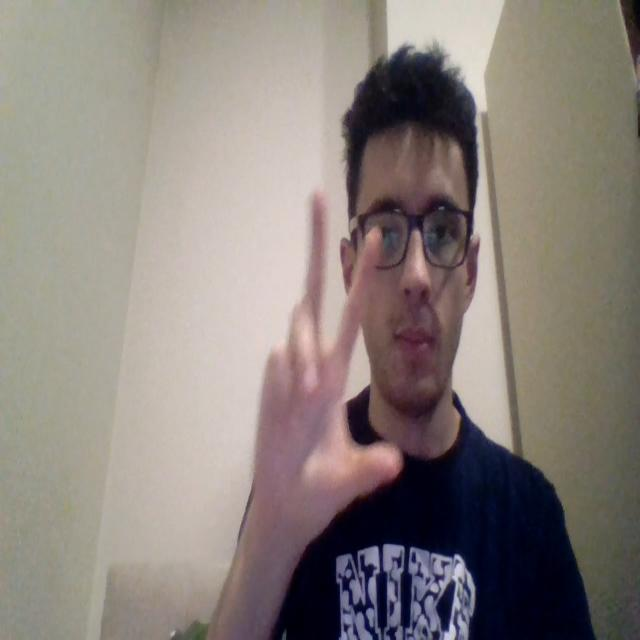no: (250, 190, 402, 541)
